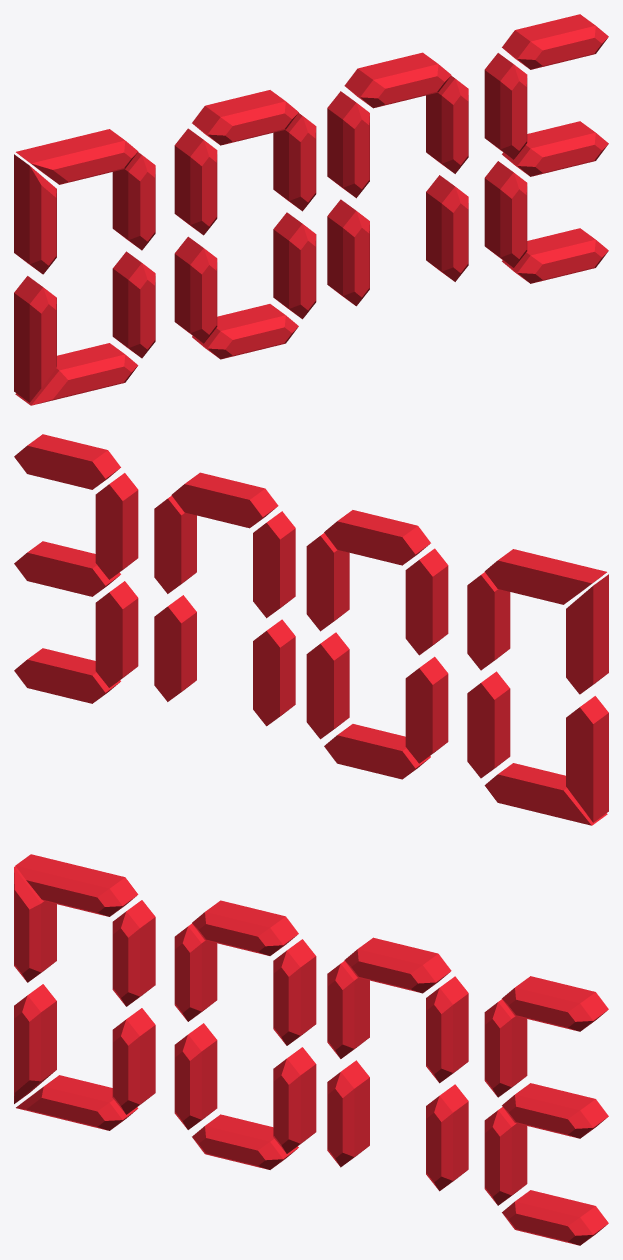
File: DoneLetters.fbx
The picture shows the model from 3 angles, top to bottom: view 1: azimuth 30°, elevation 25°; view 2: azimuth 150°, elevation 25°; view 3: azimuth 330°, elevation 25°; orthographic projection.
Parts seen in each view (by area): view 1: Segment.033, Segment.026, Segment.025, Segment.041, Segment.034, Segment.042, Segment.045, Segment.056, Segment.057, Segment.049, Segment.052, Segment.050 (+10 smaller); view 2: Segment.033, Segment.026, Segment.025, Segment.041, Segment.034, Segment.042, Segment.045, Segment.056, Segment.057, Segment.049, Segment.052, Segment.050 (+10 smaller); view 3: Segment.025, Segment.033, Segment.034, Segment.035, Segment.041, Segment.045, Segment.046, Segment.052, Segment.049, Segment.053, Segment.054, Segment.061 (+10 smaller).
Boxes of the visible parts, left/top/right/bottom form: Segment.033: left=14, top=276, right=56, bottom=402; Segment.026: left=14, top=154, right=56, bottom=274; Segment.025: left=16, top=129, right=138, bottom=184; Segment.041: left=174, top=236, right=217, bottom=343; Segment.034: left=112, top=251, right=155, bottom=358; Segment.042: left=174, top=128, right=217, bottom=235; Segment.045: left=273, top=212, right=316, bottom=319; Segment.056: left=484, top=161, right=527, bottom=267; Segment.057: left=484, top=53, right=527, bottom=159; Segment.049: left=327, top=199, right=369, bottom=306; Segment.052: left=426, top=175, right=468, bottom=281; Segment.050: left=327, top=91, right=369, bottom=198; Segment.033: left=566, top=696, right=608, bottom=822; Segment.026: left=566, top=574, right=608, bottom=694; Segment.025: left=484, top=549, right=606, bottom=604; Segment.041: left=405, top=656, right=448, bottom=763; Segment.034: left=467, top=671, right=510, bottom=778; Segment.042: left=405, top=548, right=448, bottom=655; Segment.045: left=306, top=632, right=349, bottom=739; Segment.056: left=95, top=581, right=138, bottom=687; Segment.057: left=95, top=473, right=138, bottom=579; Segment.049: left=253, top=619, right=295, bottom=726; Segment.052: left=154, top=595, right=196, bottom=701; Segment.050: left=253, top=511, right=295, bottom=618; Segment.025: left=15, top=854, right=138, bottom=916; Segment.033: left=14, top=984, right=56, bottom=1103; Segment.034: left=112, top=1008, right=155, bottom=1114; Segment.035: left=112, top=900, right=155, bottom=1006; Segment.041: left=174, top=1023, right=217, bottom=1129; Segment.045: left=273, top=1047, right=316, bottom=1153; Segment.046: left=273, top=939, right=316, bottom=1045; Segment.052: left=426, top=1084, right=468, bottom=1191; Segment.049: left=327, top=1060, right=369, bottom=1167; Segment.053: left=426, top=976, right=468, bottom=1083; Segment.054: left=344, top=937, right=451, bottom=993; Segment.061: left=502, top=976, right=608, bottom=1031.
Size of the model in its own units: 425 by 26.93 by 170.
